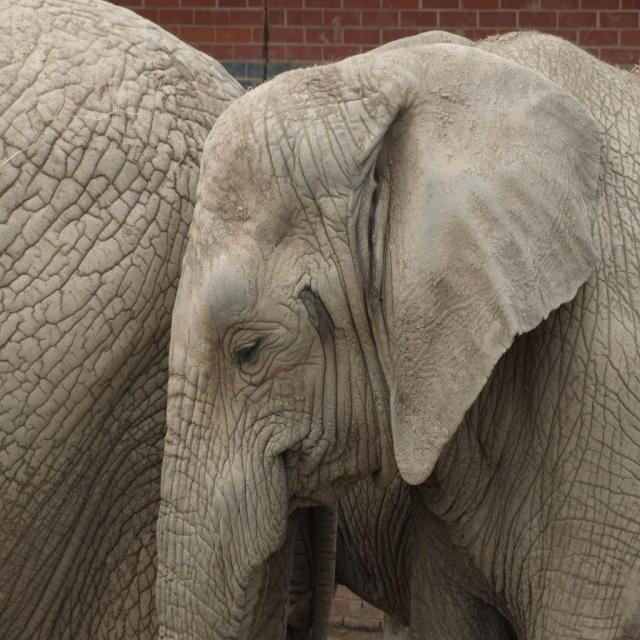elephant: (154, 30, 640, 639), (0, 0, 252, 639)
